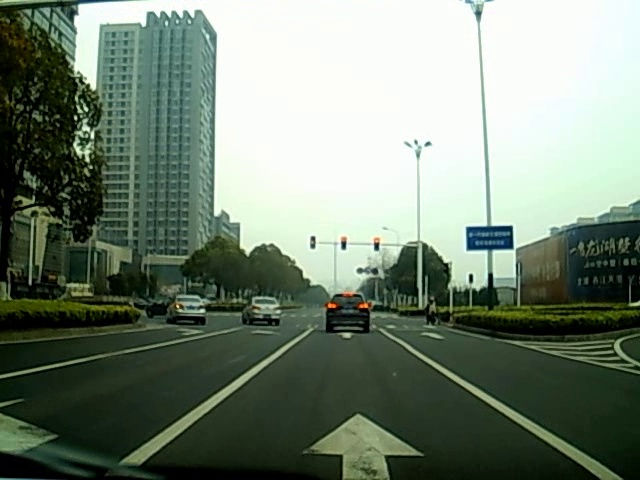Traffic_Light_stop: (373, 238, 380, 252), (341, 236, 347, 249)
